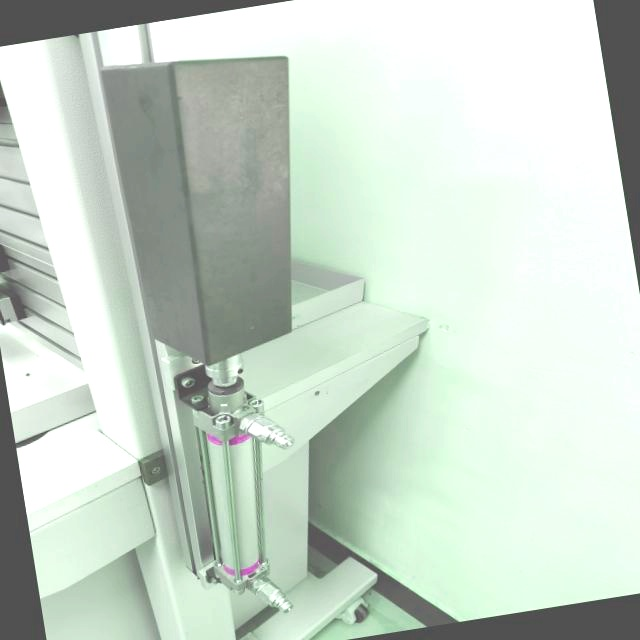load: (37, 16, 399, 640)
